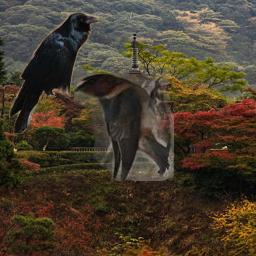Crow: (9, 12, 99, 134)
Swallow: (74, 73, 174, 181)
